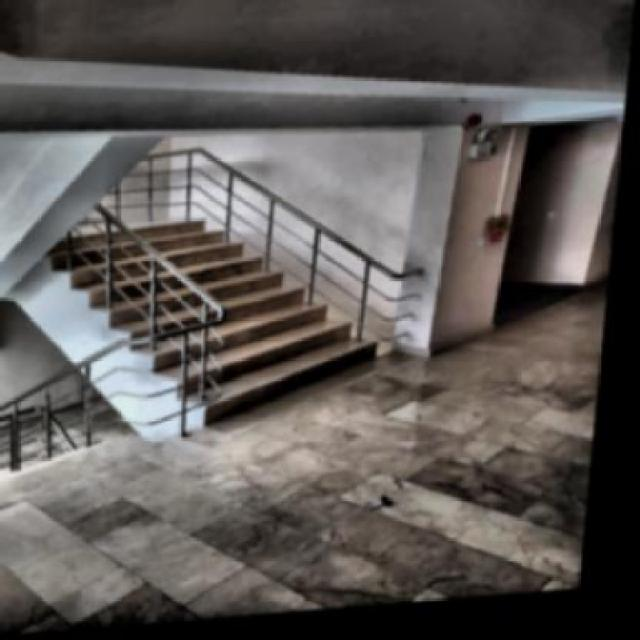stair: (39, 215, 406, 432)
